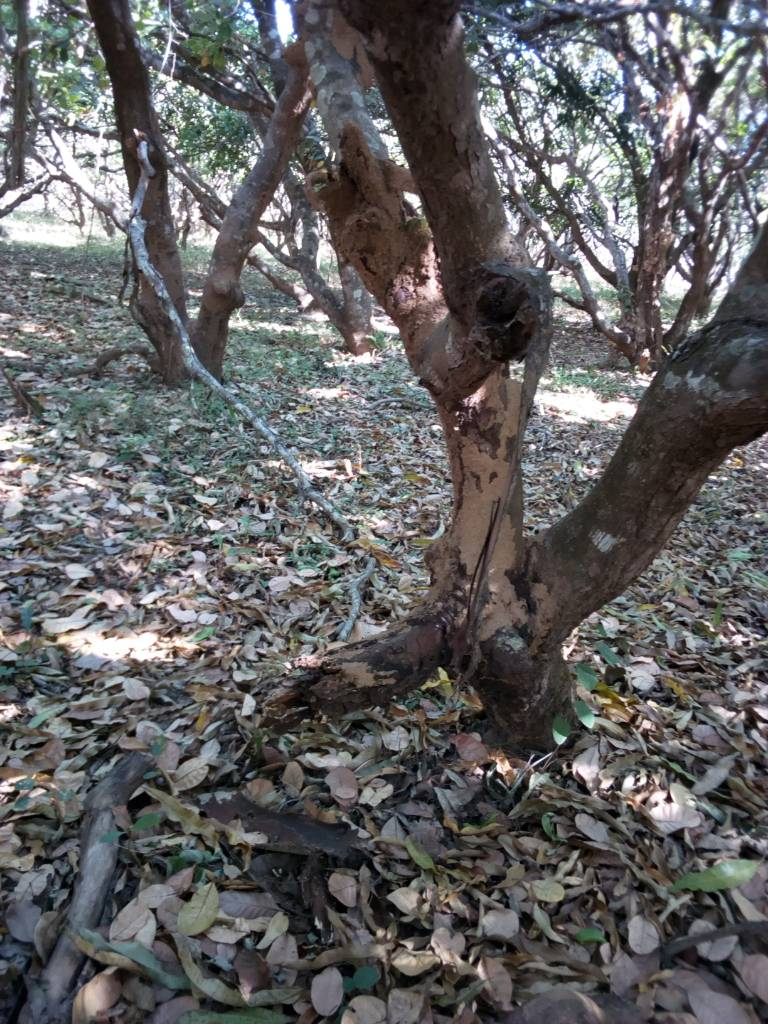Termites: (454, 374, 552, 638), (341, 139, 444, 311)
